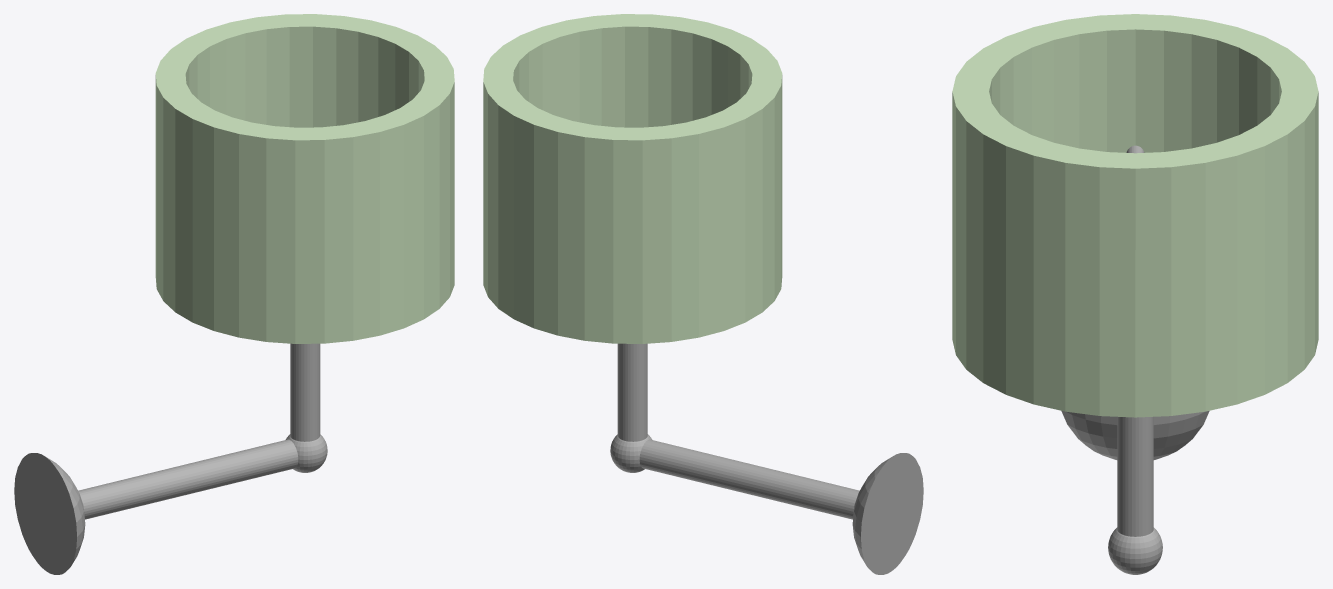
File: newLamp.fbx
3 renders of one model, left to right at view 1: azimuth 30°, elevation 25°; view 2: azimuth 150°, elevation 25°; view 3: azimuth 270°, elevation 25°, orthographic. The views are drawn at different scales.
Visible parts, largest first — view 1: Light, Sphere.001; view 2: Light, Sphere.001; view 3: Light, Sphere.001.
Part boxes in pixels (left/top/right/bottom): Light: left=155, top=14, right=454, bottom=343; Sphere.001: left=14, top=343, right=327, bottom=574; Light: left=483, top=14, right=782, bottom=343; Sphere.001: left=610, top=343, right=923, bottom=574; Light: left=952, top=14, right=1318, bottom=417; Sphere.001: left=1061, top=145, right=1209, bottom=574.
Size of the model in its own units: 300 by 317 by 200.
